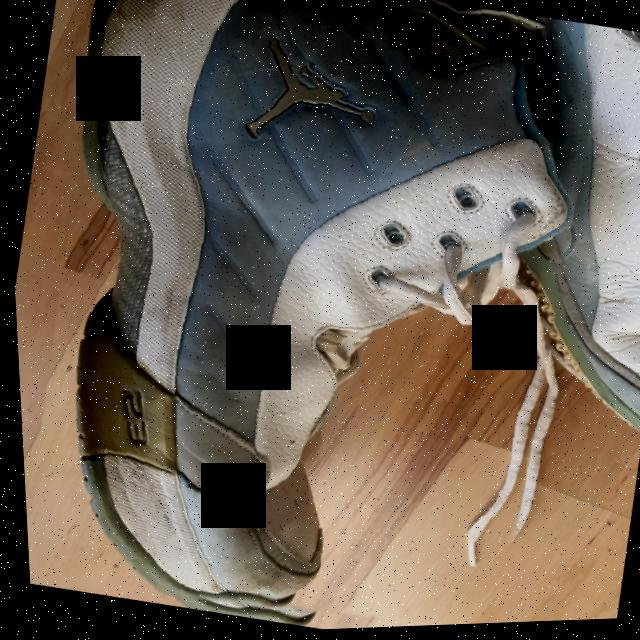shoe: (0, 0, 632, 640)
